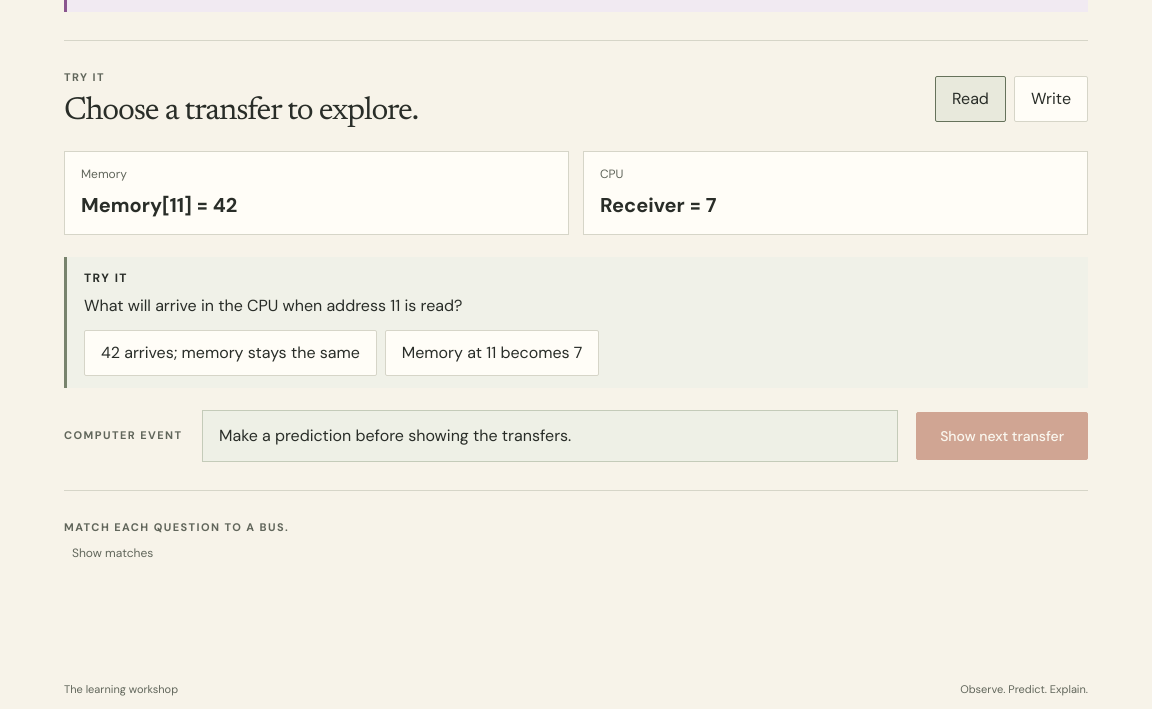
it: read events arrive in order and update the receiver without changing memory
(page scrolled)
Check: the text "Memory[11] = 42" is shown, box [81, 192, 237, 218]
Check: the text "Receiver = 7" is shown, box [600, 192, 716, 218]
Click the button "42 arrives; memory stays the same" at (230, 353), box [84, 330, 377, 376]
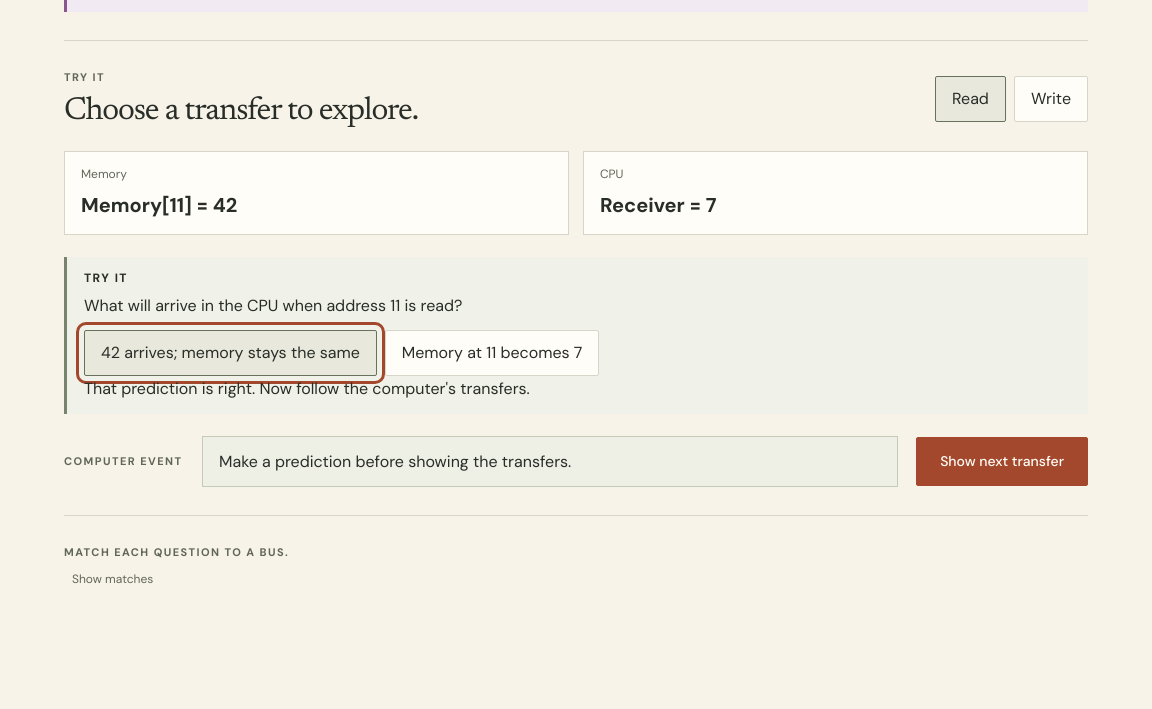
Click the button "Show next transfer" at (1002, 461), box [916, 437, 1088, 486]
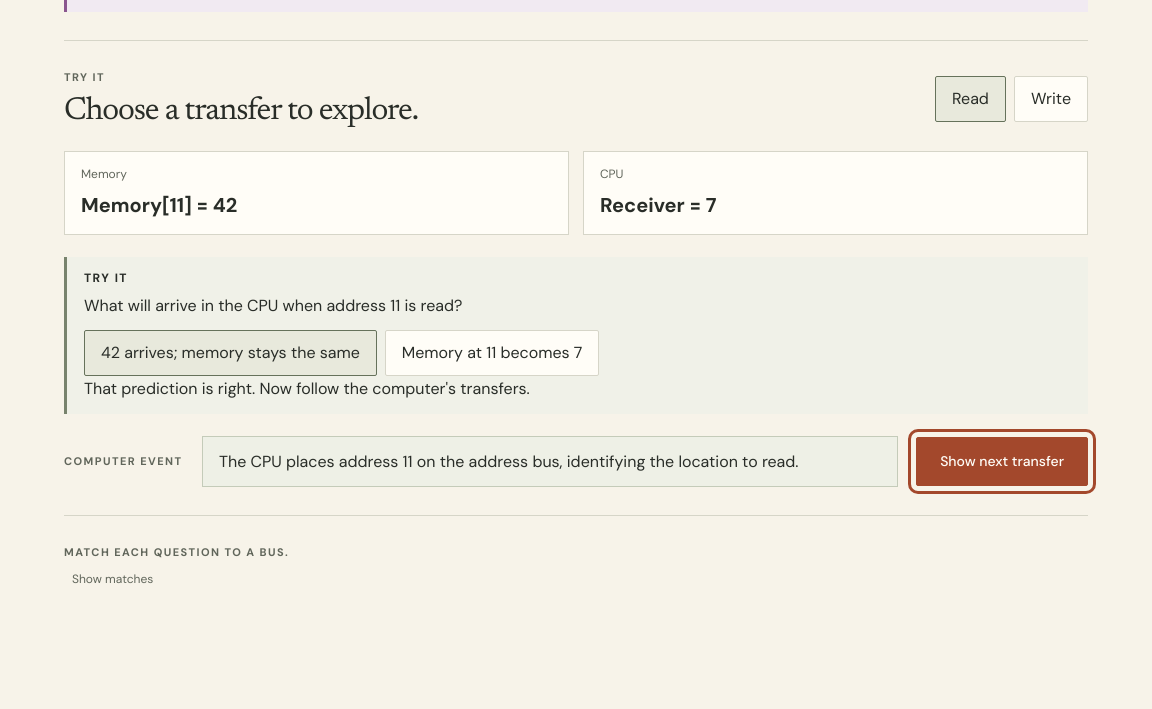
Check: the message shows "address bus", box [219, 451, 798, 472]
Click the button "Show next transfer" at (1002, 461), box [916, 437, 1088, 486]
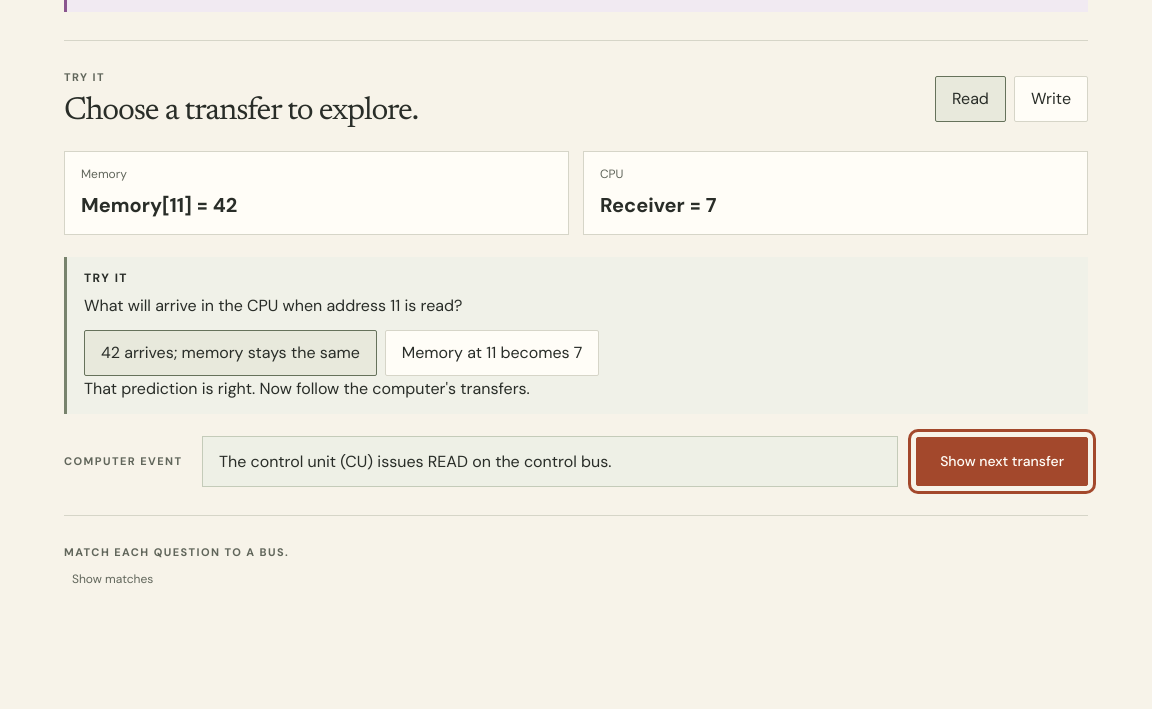
Check: the message shows "READ", box [219, 451, 611, 472]
Click the button "Show next transfer" at (1002, 461), box [916, 437, 1088, 486]
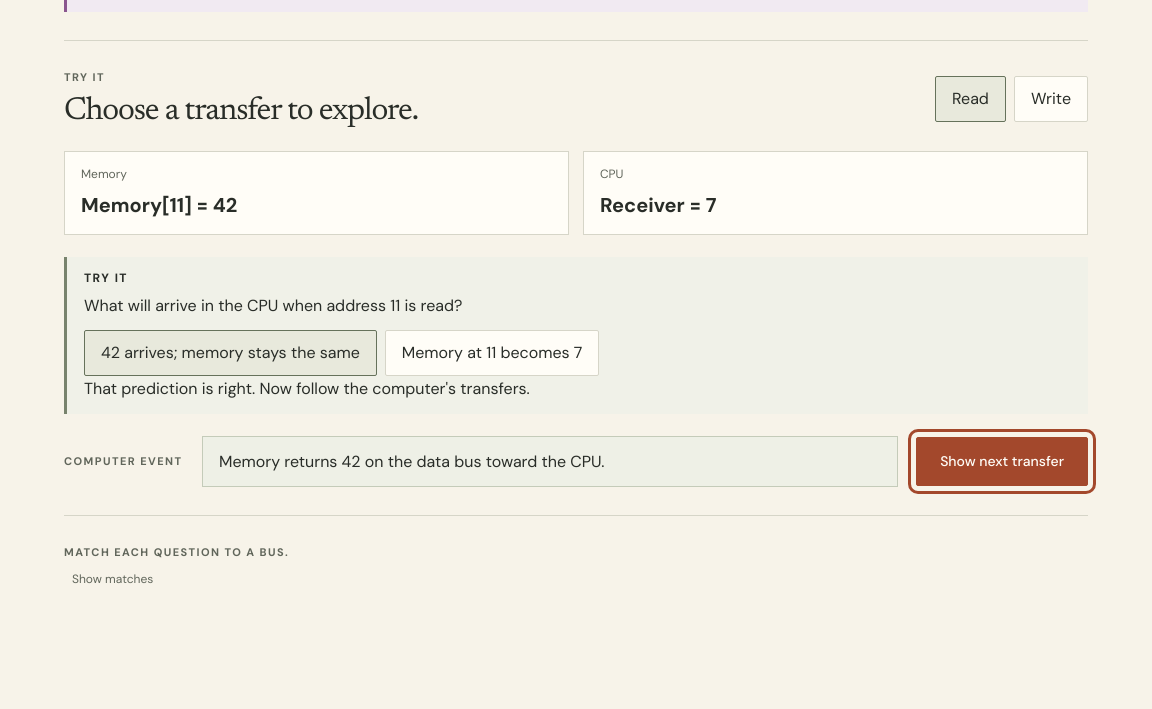
Check: the message shows "data bus", box [219, 451, 604, 472]
Click the button "Show next transfer" at (1002, 461), box [916, 437, 1088, 486]
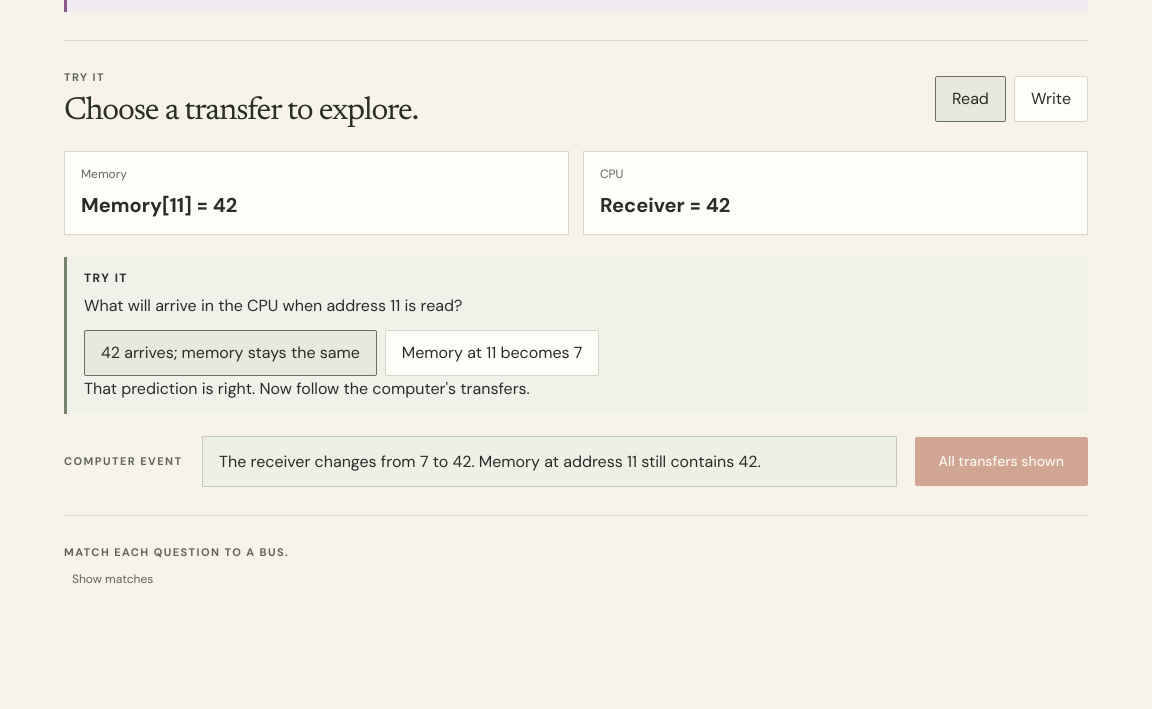
Check: the text "Memory[11] = 42" is shown, box [81, 192, 237, 218]
Check: the text "Receiver = 42" is shown, box [600, 192, 730, 218]
